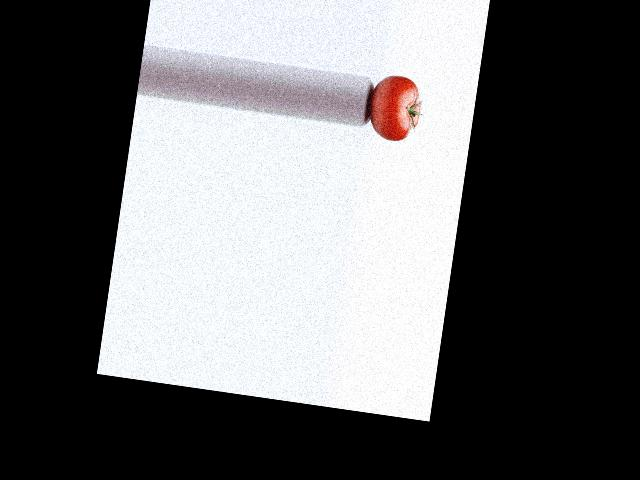tomato: (365, 72, 424, 144)
